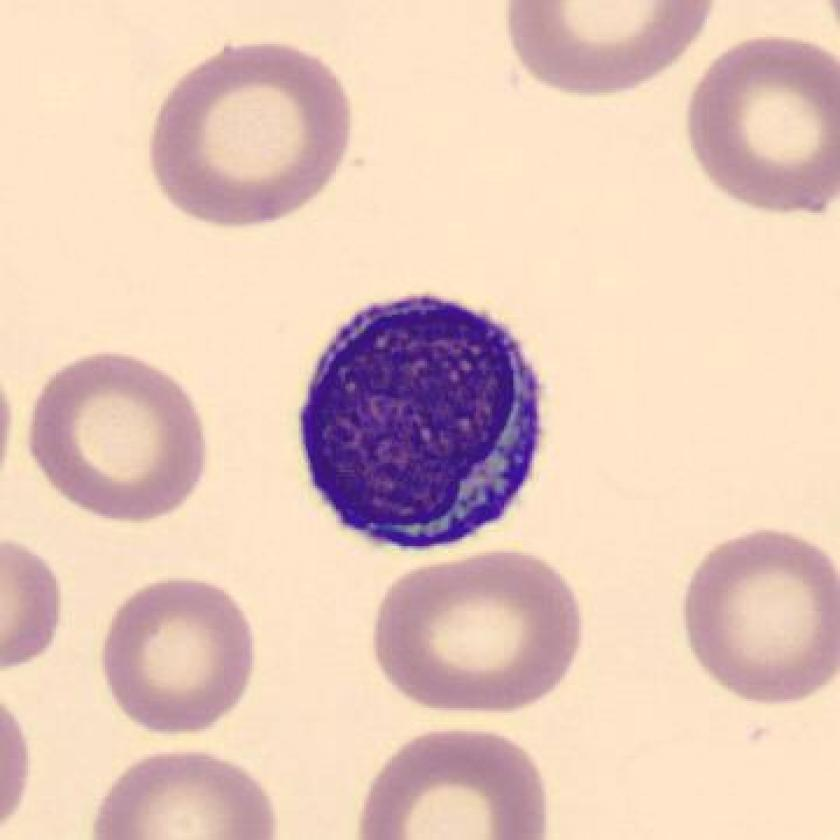lymphocyte: (279, 279, 563, 559)
